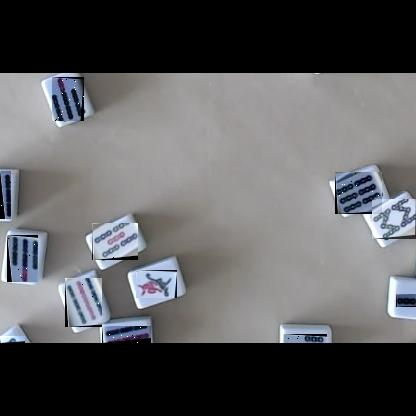1s: (136, 270, 177, 298)
2s: (396, 294, 416, 307)
3s: (283, 334, 327, 343)
4s: (0, 336, 25, 343)
5s: (92, 223, 138, 260)
6s: (335, 172, 382, 214)
7s: (7, 235, 38, 282), (52, 77, 84, 121)
8s: (372, 199, 416, 239)
9s: (65, 278, 102, 327), (102, 326, 151, 343), (0, 171, 11, 219)
